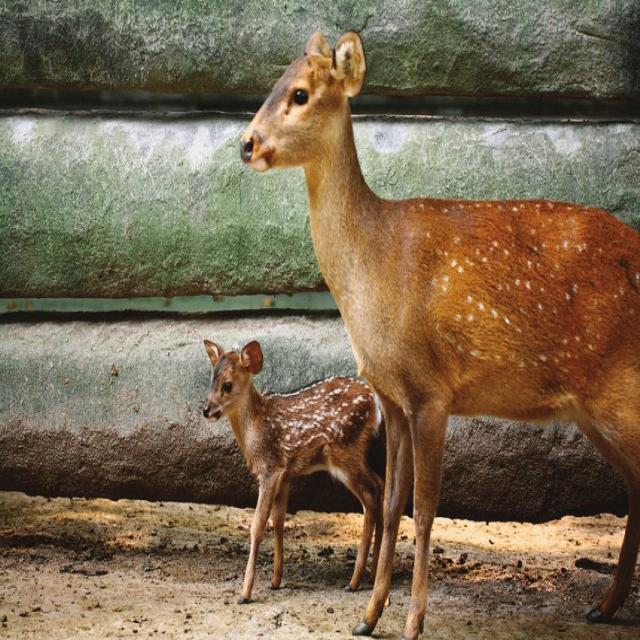not_pig: (238, 28, 639, 638), (200, 336, 388, 604)
